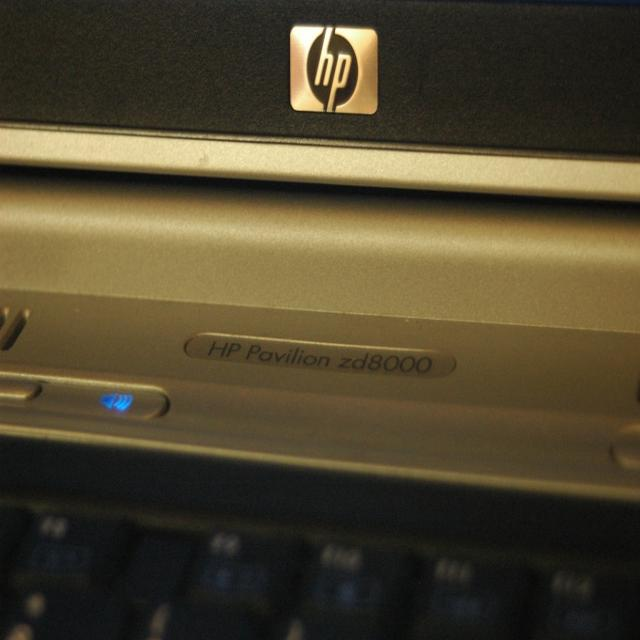HP: (290, 27, 380, 117)
